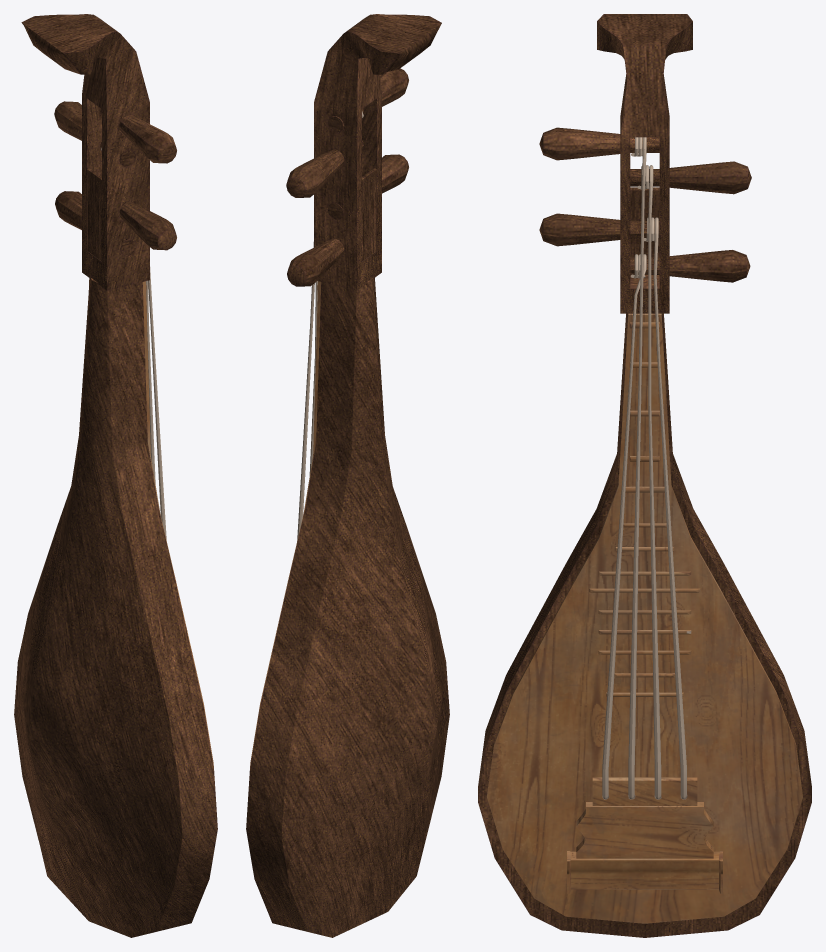
Rendered from pipa.glb.
The picture shows the model from 3 angles, left to right: view 1: azimuth 30°, elevation 25°; view 2: azimuth 150°, elevation 25°; view 3: azimuth 270°, elevation 25°; orthographic projection.
Visible parts, largest first — view 1: body, Upper_part_1, U_C_4, U_C_2, Upper_part_2, Rope_1, U_C_3, U_C_1, F_plane, Rope_2; view 2: body, Upper_part_1, U_C_3, U_C_1, Upper_part_2, Rope_4, U_C_2, U_C_4, F_plane, Rope_3; view 3: F_plane, body, Upper_part_1, F_part_2, F_part_1, Rope_2, Rope_3, Rope_4, Rope_1, F_part_3, U_C_3, U_C_4 (+3 smaller).
Boxes of the visible parts, x1,y1,x2,y2 form: body: (14, 277, 217, 937); Upper_part_1: (21, 14, 149, 290); U_C_4: (100, 108, 176, 163); U_C_2: (119, 202, 176, 250); Upper_part_2: (87, 168, 101, 261); Rope_1: (148, 267, 166, 539); U_C_3: (54, 101, 135, 166); U_C_1: (55, 191, 136, 256); F_plane: (142, 281, 213, 768); Rope_2: (146, 280, 155, 483); body: (246, 277, 449, 937); Upper_part_1: (314, 14, 441, 290); U_C_3: (286, 140, 363, 197); U_C_1: (287, 238, 344, 286); Upper_part_2: (362, 168, 376, 261); Rope_4: (297, 242, 314, 541); U_C_2: (327, 154, 408, 219); U_C_4: (327, 68, 408, 132); F_plane: (250, 281, 321, 768); Rope_3: (309, 281, 317, 475); F_plane: (487, 313, 802, 923); body: (478, 313, 811, 937); Upper_part_1: (597, 14, 692, 313); F_part_2: (576, 802, 713, 858); F_part_1: (567, 851, 722, 893); Rope_2: (628, 137, 646, 799); Rope_3: (637, 165, 661, 799); Rope_4: (644, 217, 686, 799); Rope_1: (602, 254, 646, 799); F_part_3: (592, 777, 697, 805); U_C_3: (630, 161, 751, 194); U_C_4: (539, 127, 659, 160).
Bounding box in the file's own units: 0.0259 × 0.1692 × 0.0581.
Materials: 1 (1 with a texture image).
